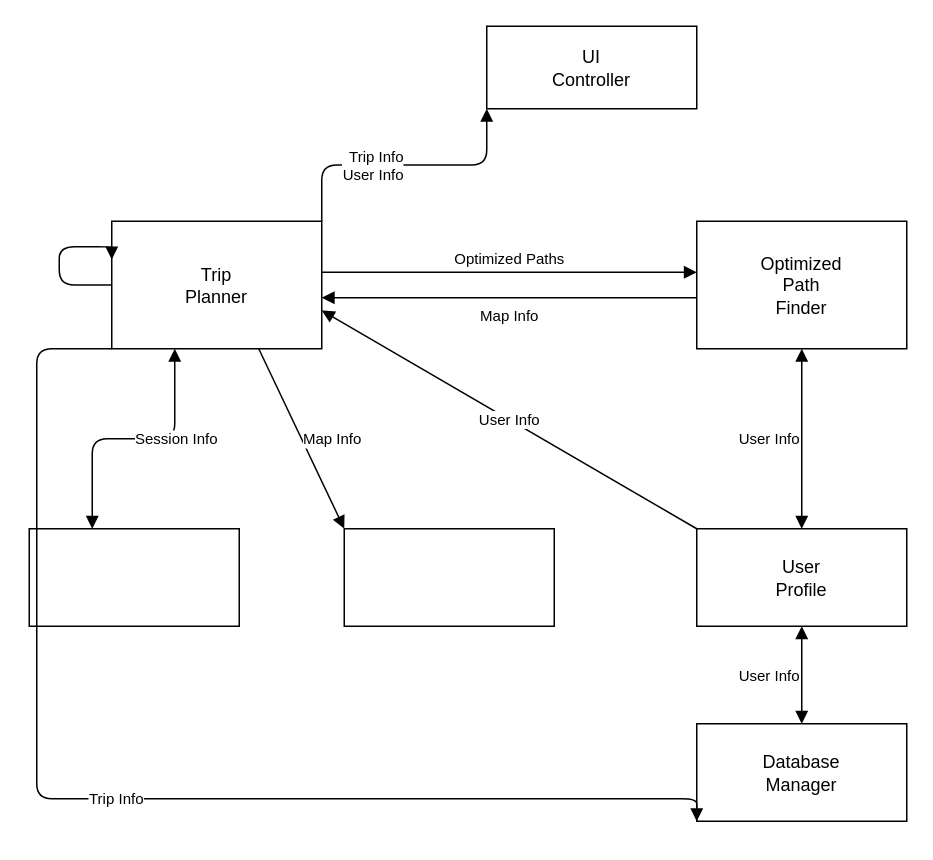
The diagram is 933 pixels wide and 860 high, and some of its shapes have lost their labels. Here are the shapes that lost their labels. From the top down, the centre of each, then its label:
At (x=133, y=576): "Session Manager".
At (x=448, y=576): "Map Controller".
